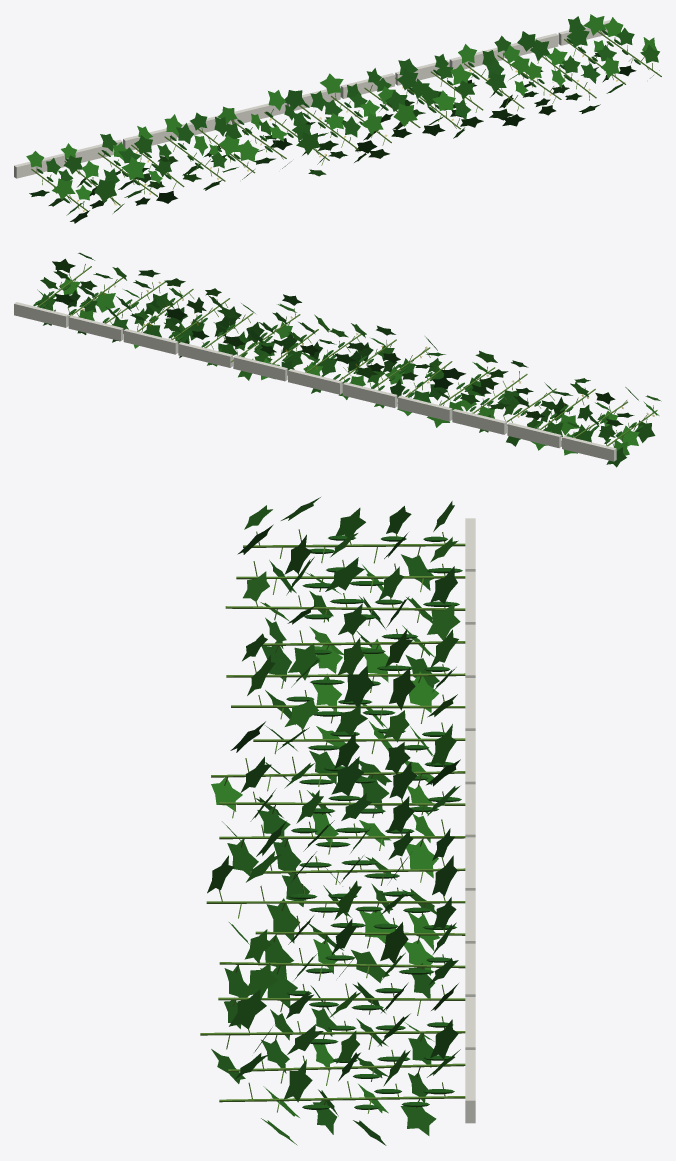
The model's file is row25.obj.
The picture shows the model from 3 angles, top to bottom: view 1: azimuth 30°, elevation 25°; view 2: azimuth 150°, elevation 25°; view 3: azimuth 270°, elevation 25°; orthographic projection. The views are drawn at different scales.
Parts seen in each view (by area): view 1: row25; view 2: row25; view 3: row25.
Part boxes in pixels (left/top/right/bottom): row25: left=14, top=14, right=661, bottom=223; row25: left=14, top=252, right=661, bottom=467; row25: left=200, top=497, right=475, bottom=1145.
Bounding box in the file's own units: 11.06 × 0.9039 × 2.19.
